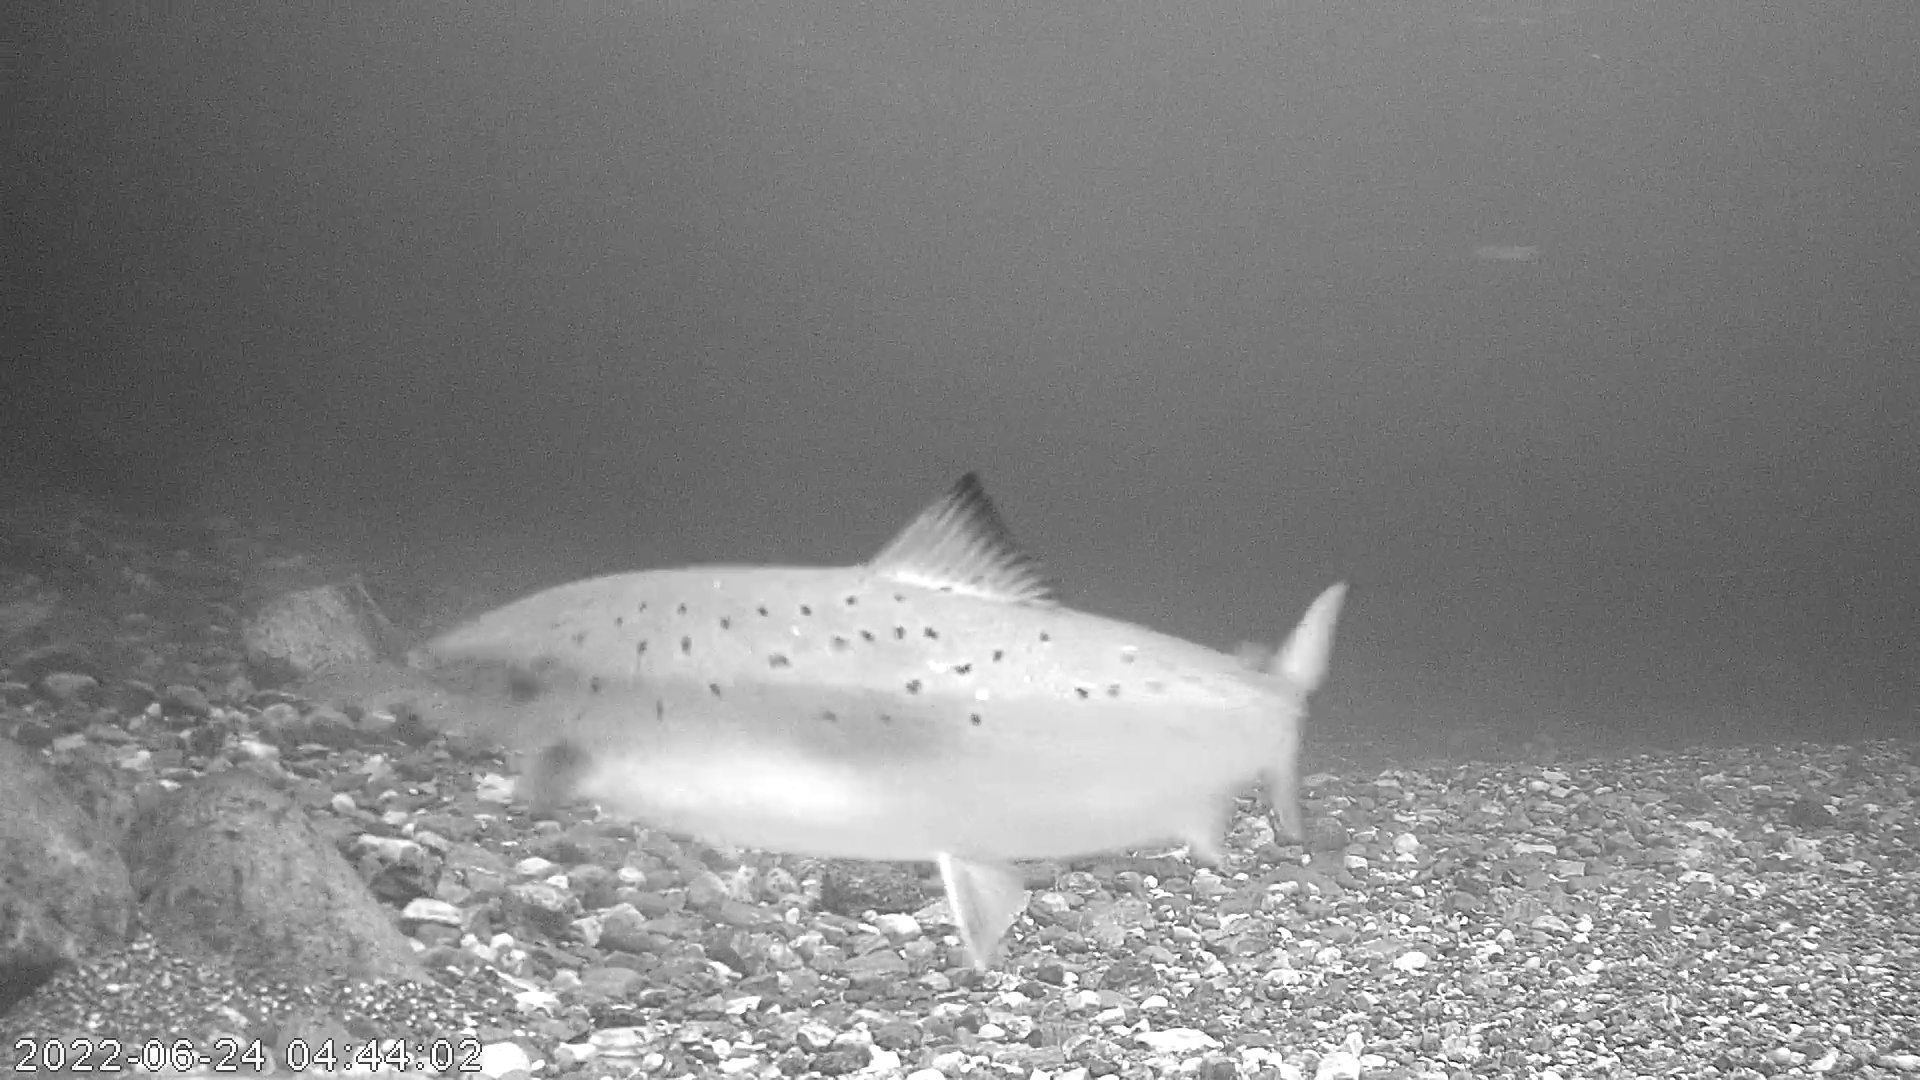salmon: (400, 465, 1356, 978)
